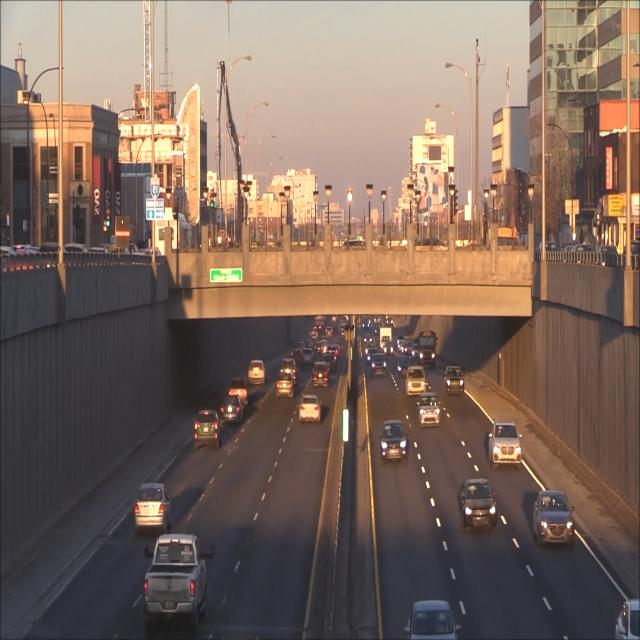Vehicle: (142, 534, 212, 626), (533, 491, 575, 554), (459, 478, 498, 533), (131, 482, 172, 532), (487, 422, 522, 468), (380, 418, 408, 465), (192, 412, 222, 451), (297, 392, 323, 426), (416, 330, 437, 368), (418, 392, 440, 428), (220, 395, 244, 425), (228, 377, 250, 408), (405, 366, 425, 396), (443, 366, 464, 394), (247, 359, 266, 388), (310, 362, 329, 389), (274, 374, 294, 399), (280, 358, 298, 384), (370, 354, 386, 378)
